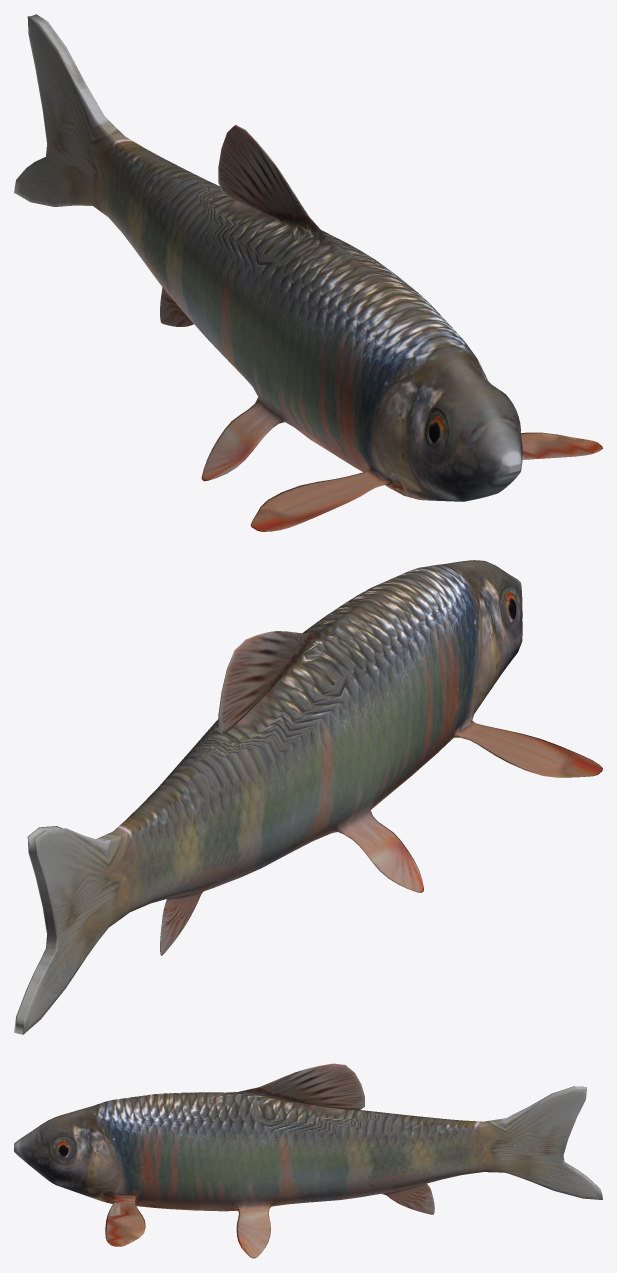
The model's file is oikawa_model.fbx.
The picture shows the model from 3 angles, top to bottom: view 1: azimuth 30°, elevation 25°; view 2: azimuth 150°, elevation 25°; view 3: azimuth 270°, elevation 25°; orthographic projection. The views are drawn at different scales.
Parts seen in each view (by area): view 1: pCube1; view 2: pCube1; view 3: pCube1.
Part boxes in pixels (left/top/right/bottom): pCube1: left=14, top=14, right=602, bottom=531; pCube1: left=14, top=560, right=602, bottom=1034; pCube1: left=14, top=1063, right=602, bottom=1258.
Bounding box in the file's own units: 7.19 × 5.45 × 17.83.
